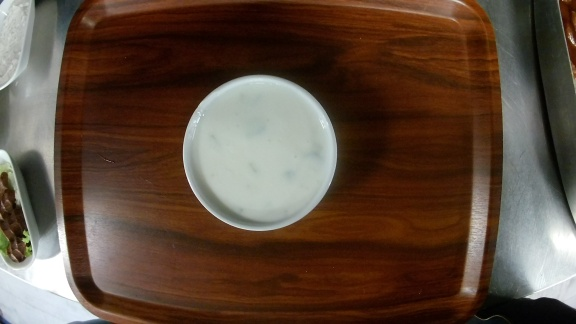cacik: (183, 72, 339, 232)
